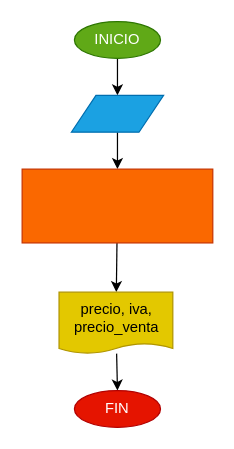
Image size: 234x449. Some labels were removed from this diagram. The centre of each missing label's shape, as x and y in pixels:
iva = 0.19*precio precio_venta = precio + iva: (x=117, y=205)
precio: (x=117, y=113)
